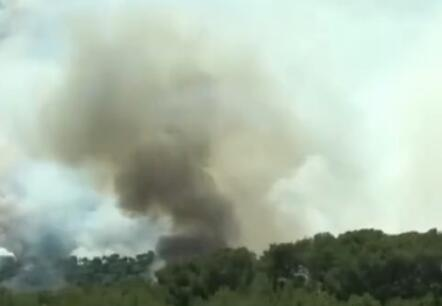yanwu: (0, 1, 442, 287)
